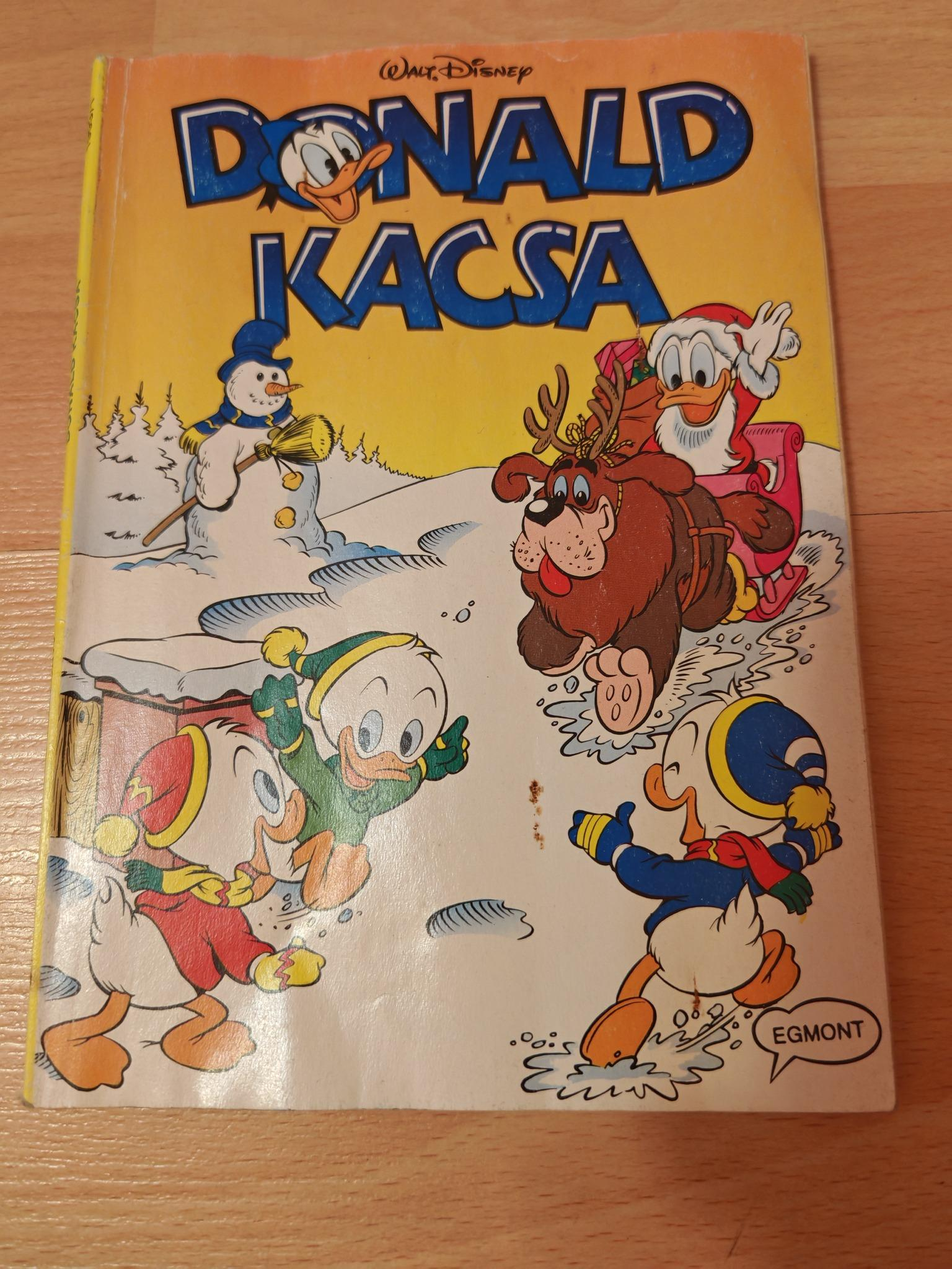comic: (26, 31, 896, 1110)
